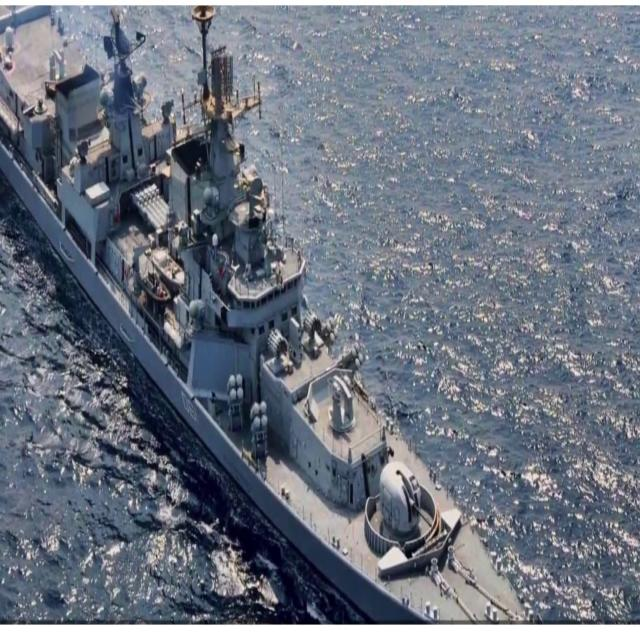OCR: (176, 386, 203, 434)
